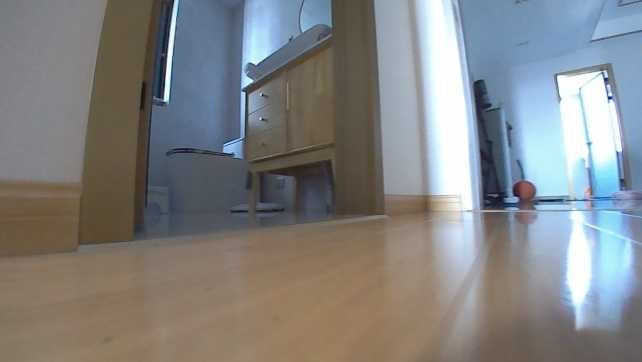door_sill: (77, 209, 388, 250), (477, 204, 640, 215)
toilet: (163, 135, 251, 225)
washstand: (240, 32, 339, 207)
